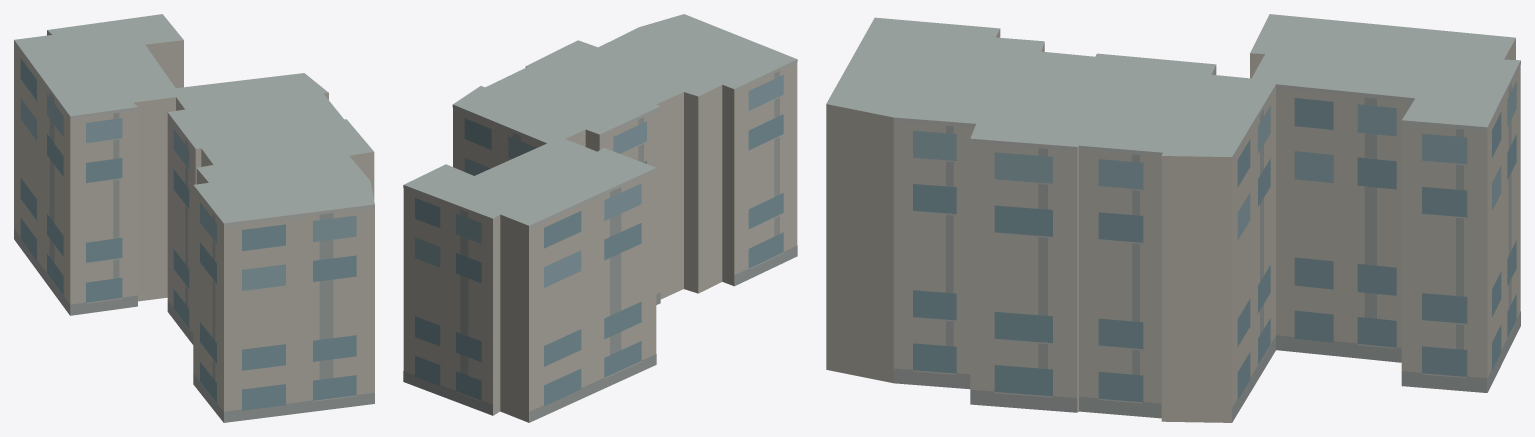
The model's file is survey-upis-32744866.glb.
3 renders of one model, left to right at view 1: azimuth 30°, elevation 25°; view 2: azimuth 150°, elevation 25°; view 3: azimuth 270°, elevation 25°, orthographic. The views are drawn at different scales.
Visible parts, largest first — view 1: survey-upis-32744866.tmp; view 2: survey-upis-32744866.tmp; view 3: survey-upis-32744866.tmp.
Part boxes in pixels (x1,y1,x2,y2): survey-upis-32744866.tmp: (14, 14, 374, 422); survey-upis-32744866.tmp: (403, 14, 797, 422); survey-upis-32744866.tmp: (826, 14, 1520, 422).
Bounding box in the file's own units: 17.62 × 15.25 × 36.13.
